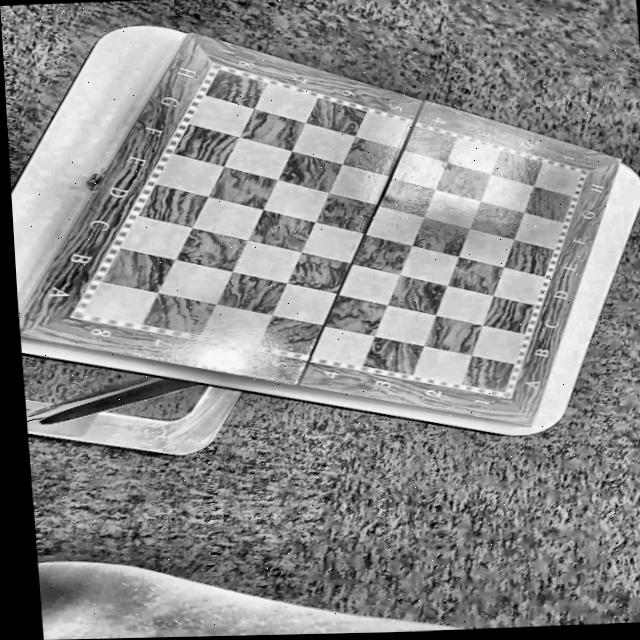chessboard: (82, 69, 580, 391)
